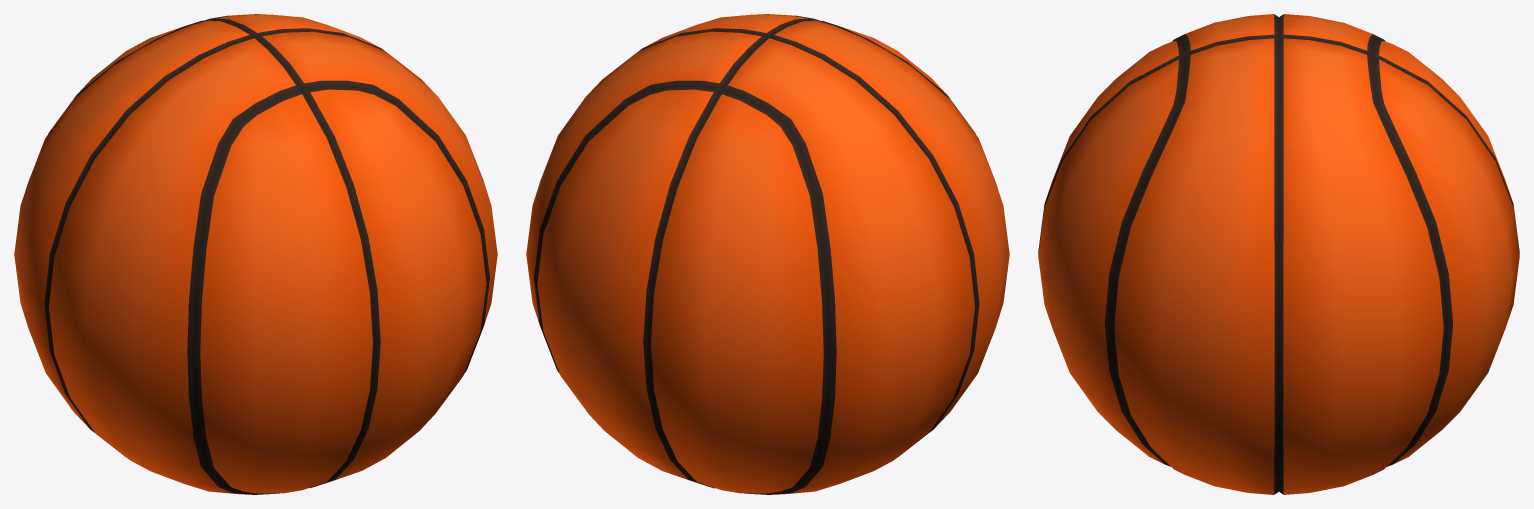
File: Basketball_Ball.fbx
3 renders of one model, left to right at view 1: azimuth 30°, elevation 25°; view 2: azimuth 150°, elevation 25°; view 3: azimuth 270°, elevation 25°, orthographic.
Parts seen in each view (by area): view 1: Basketball; view 2: Basketball; view 3: Basketball.
Boxes of the visible parts, <box> form: Basketball: <box>14,14,497,494</box>; Basketball: <box>526,14,1009,494</box>; Basketball: <box>1038,14,1519,494</box>.
Bounding box in the file's own units: 0.3581 × 0.3578 × 0.3581.
